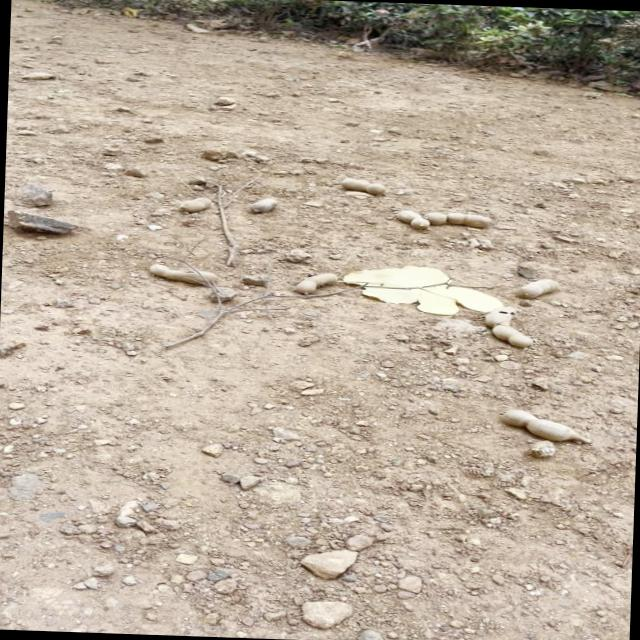tamarind: (500, 405, 591, 445), (141, 260, 217, 284), (424, 211, 500, 231), (332, 173, 388, 194), (484, 323, 530, 346), (292, 272, 336, 294), (518, 276, 553, 303), (390, 208, 426, 226), (177, 195, 208, 214), (252, 192, 272, 218)
